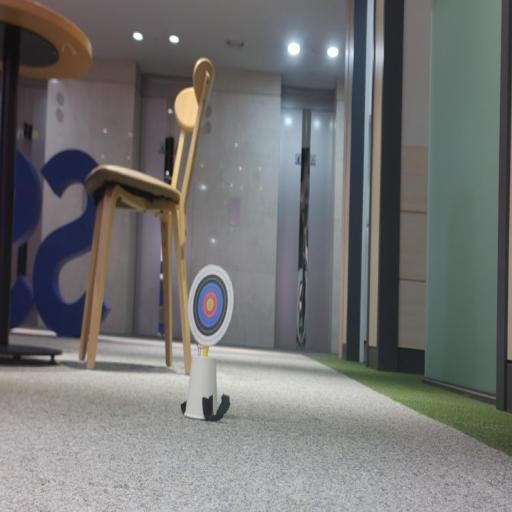target: (188, 265, 233, 346)
